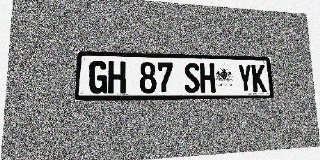7: (157, 62, 173, 93)
8: (140, 62, 156, 93)
G: (89, 61, 108, 94)
H: (108, 61, 126, 94), (200, 63, 215, 93)
K: (251, 64, 266, 92)
S: (184, 63, 200, 93)
Y: (237, 64, 253, 92)
